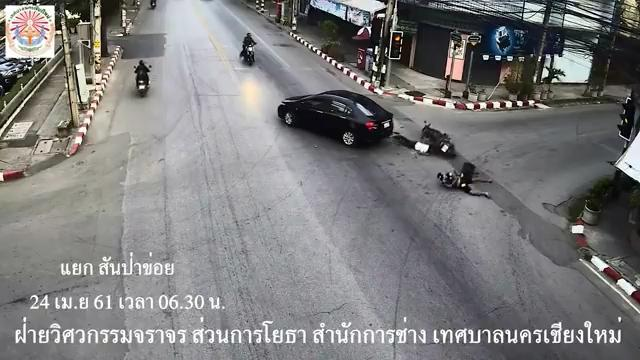accident: (435, 169, 498, 202)
